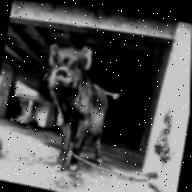boar: (30, 38, 128, 181)
